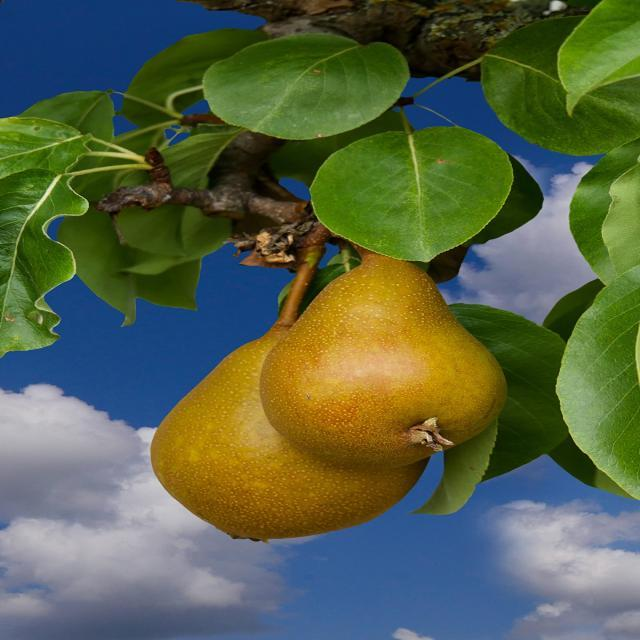Pear Ripe: (149, 321, 430, 542), (258, 242, 508, 469)
